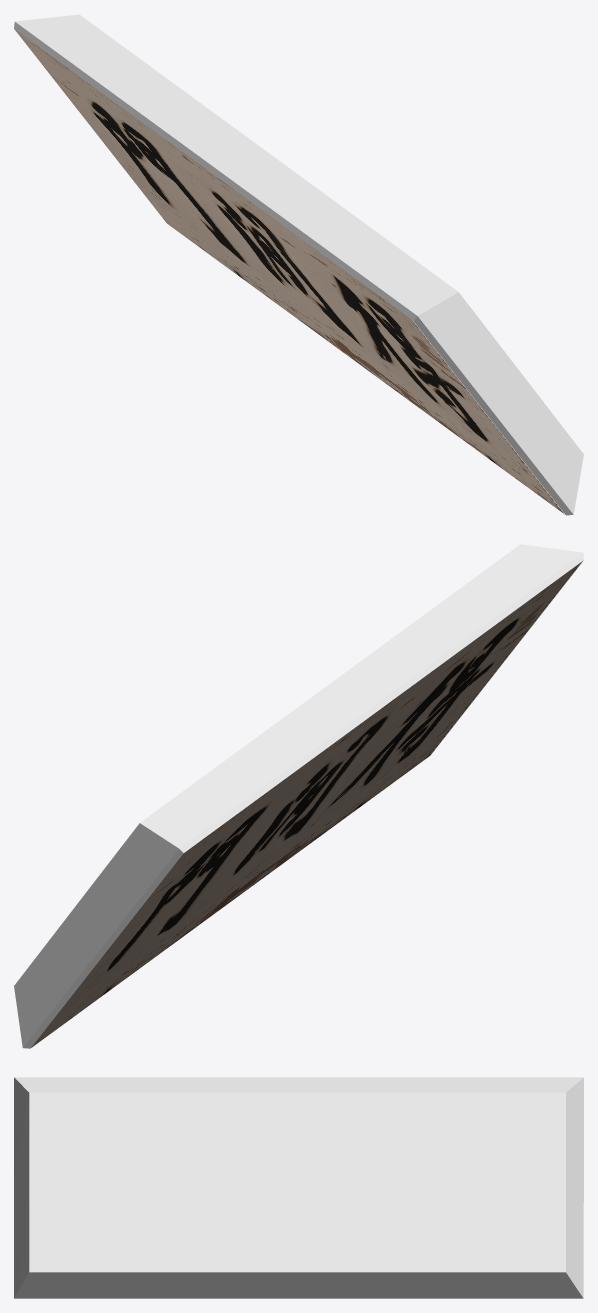
File: SM_R_Sign_DH.fbx
The picture shows the model from 3 angles, top to bottom: view 1: azimuth 30°, elevation 25°; view 2: azimuth 150°, elevation 25°; view 3: azimuth 270°, elevation 25°; orthographic projection. The views are drawn at different scales.
Visible parts, largest first — view 1: SM_R_Sign_DH; view 2: SM_R_Sign_DH; view 3: SM_R_Sign_DH.
Boxes of the visible parts, box(x1,y1,x2,y2) form: SM_R_Sign_DH: box(14, 14, 583, 515); SM_R_Sign_DH: box(14, 544, 583, 1048); SM_R_Sign_DH: box(14, 1077, 583, 1298).
Size of the model in its own units: 25.24 by 97.85 by 32.3.
1 material, 1 textured.
